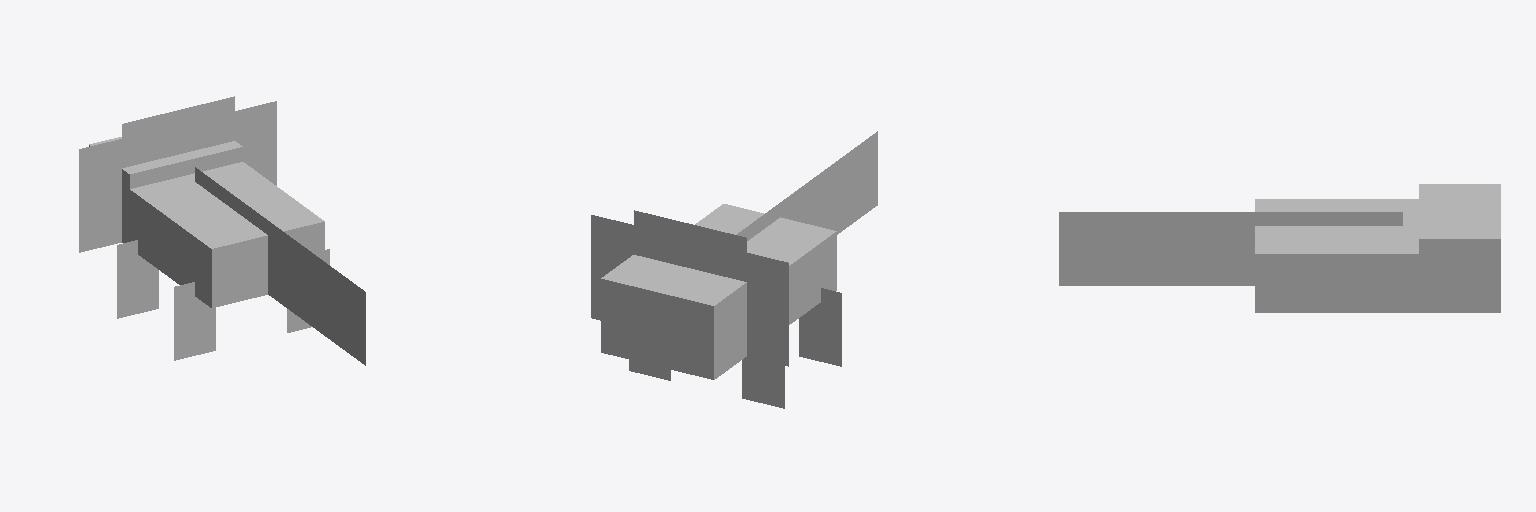
Rendered from axolotl.obj.
3 views of the same model, side by side, from view 1: azimuth 30°, elevation 25°; view 2: azimuth 150°, elevation 25°; view 3: azimuth 270°, elevation 25° (orthographic).
Visible parts, largest first — view 1: body, tail, top_gills, right_gills, head, left_gills, leg2, leg4; view 2: head, body, tail, top_gills, right_gills, leg2, left_gills, leg4; view 3: body, tail, head.
Boxes of the visible parts, box(x1,y1,x2,y2) form: body: box(130, 162, 324, 307); tail: box(268, 221, 365, 365); top_gills: box(122, 96, 234, 167); right_gills: box(79, 139, 121, 252); head: box(89, 137, 242, 242); left_gills: box(235, 101, 276, 185); leg2: box(174, 282, 215, 360); leg4: box(117, 240, 158, 318); head: box(601, 255, 746, 379); body: box(695, 203, 836, 324); tail: box(780, 131, 877, 234); top_gills: box(634, 210, 746, 281); right_gills: box(747, 253, 788, 366); leg2: box(799, 288, 841, 366); left_gills: box(591, 215, 633, 320); leg4: box(742, 356, 784, 408); body: box(1255, 199, 1418, 312); tail: box(1059, 212, 1254, 285); head: box(1419, 184, 1500, 312).
Bounding box in the file's own units: 0.875 × 0.75 × 1.69.